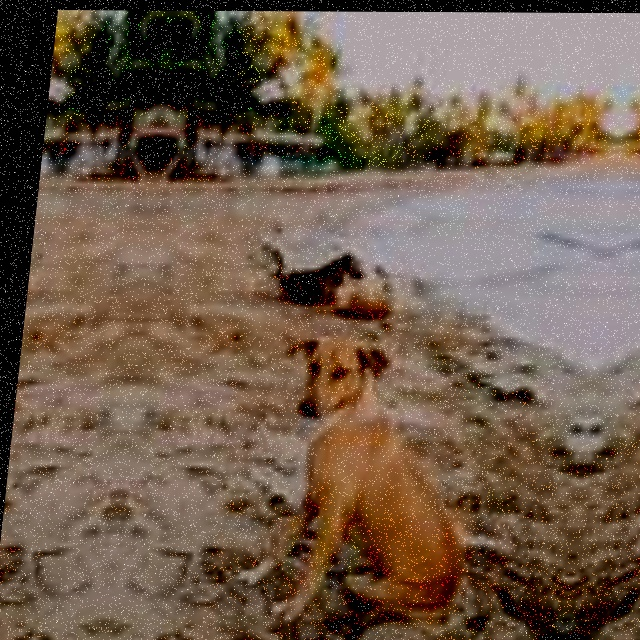dog: (199, 338, 463, 640), (0, 337, 38, 640)
